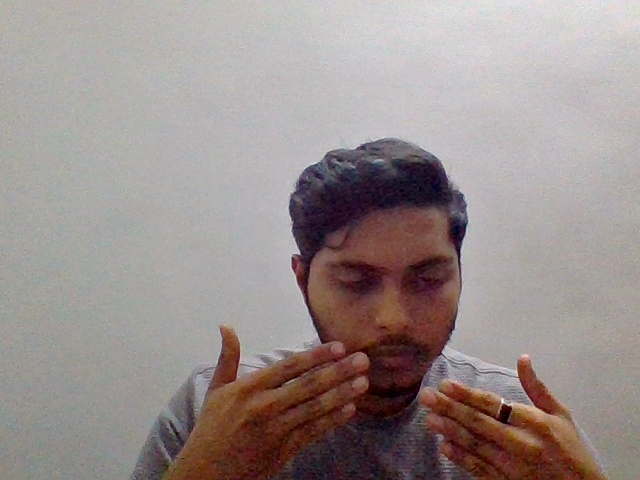Thanks: (167, 319, 604, 480)
